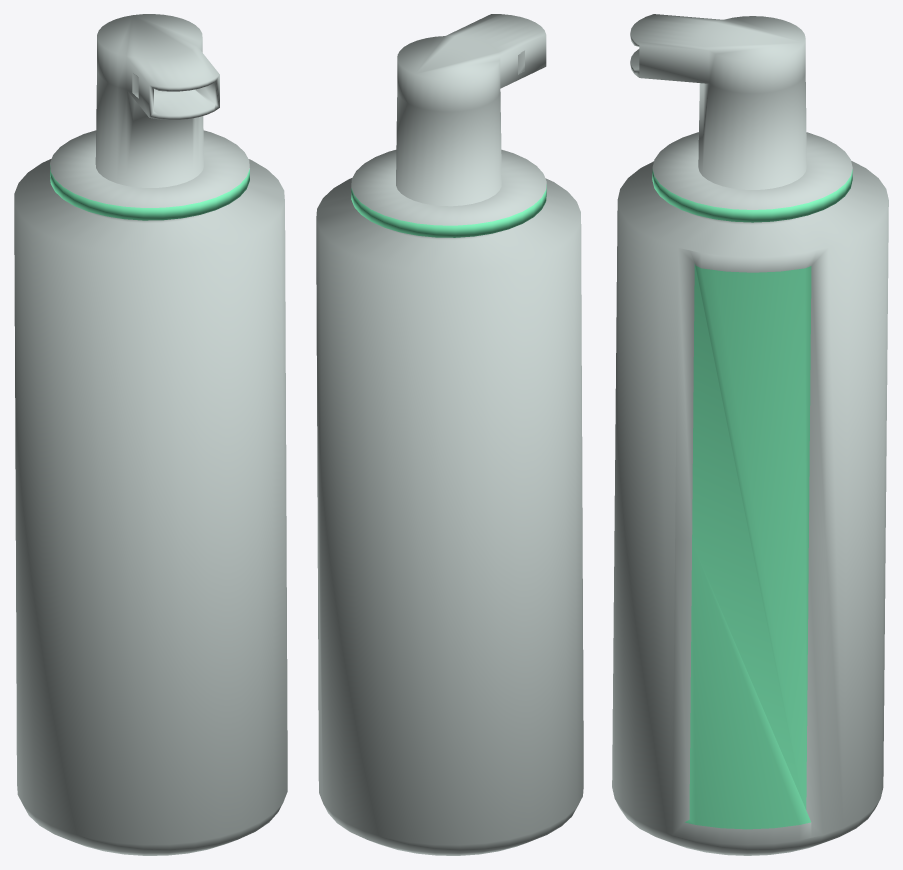
File: pena za ispravljanjei.fbx
The picture shows the model from 3 angles, left to right: view 1: azimuth 30°, elevation 25°; view 2: azimuth 150°, elevation 25°; view 3: azimuth 270°, elevation 25°; orthographic projection. The views are drawn at different scales.
Parts seen in each view (by area): view 1: Cylinder.003; view 2: Cylinder.003; view 3: Cylinder.003.
Boxes of the visible parts, x1,y1,x2,y2 form: Cylinder.003: (14, 14, 287, 855); Cylinder.003: (316, 14, 583, 855); Cylinder.003: (612, 14, 888, 855).
Size of the model in its own units: 200 by 627 by 204.
